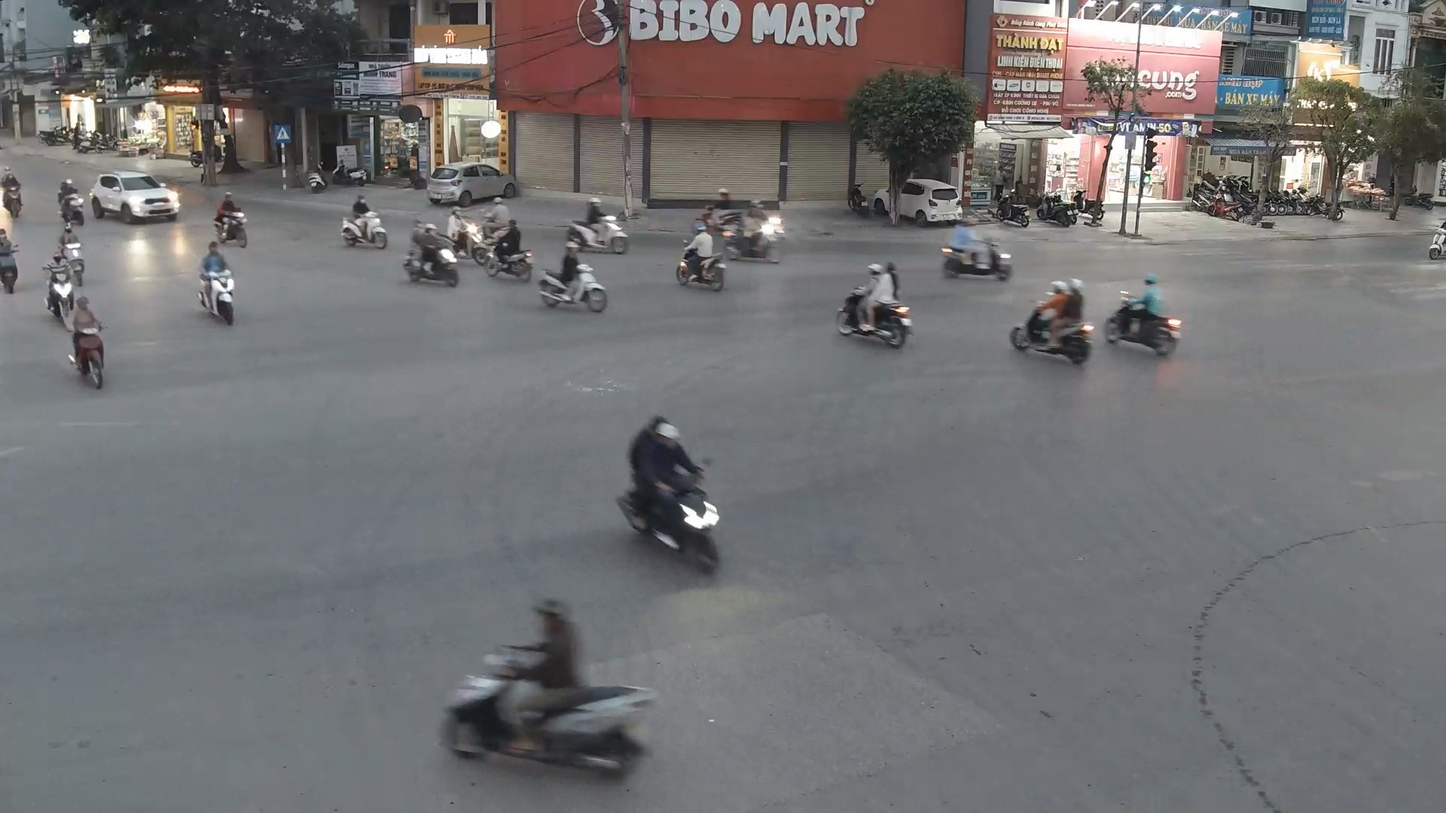car: (90, 169, 180, 223)
motorbike: (436, 590, 661, 782), (615, 411, 724, 575), (1009, 278, 1098, 368), (833, 259, 916, 351), (1102, 272, 1183, 361), (532, 237, 611, 314), (939, 220, 1014, 283), (399, 216, 462, 289), (66, 292, 110, 390), (564, 194, 632, 255), (195, 237, 239, 326), (674, 223, 729, 292), (41, 246, 78, 328), (339, 195, 390, 250), (213, 189, 249, 249), (58, 225, 86, 284), (0, 227, 22, 295), (56, 177, 84, 226), (1, 167, 26, 220)
